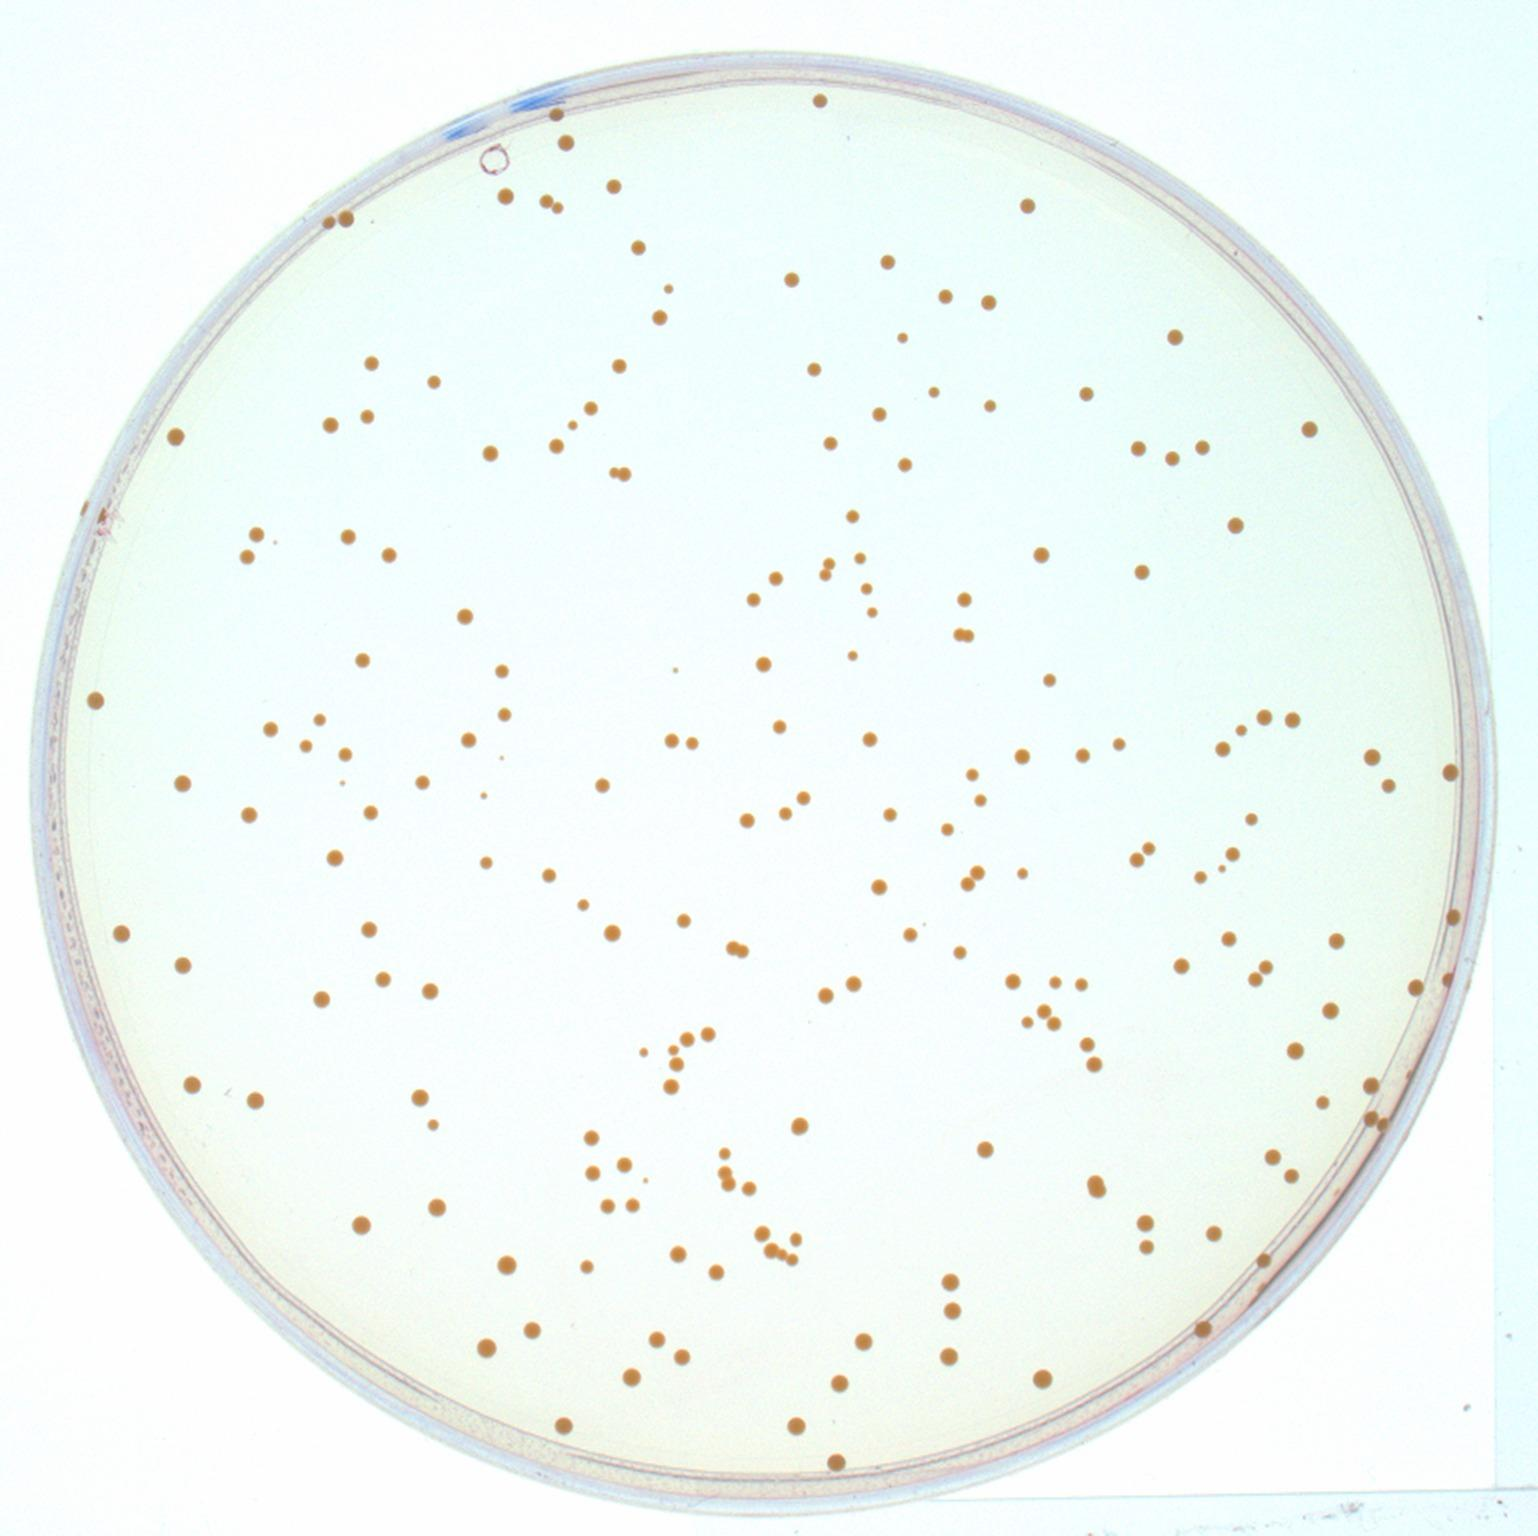colony: (167, 771, 204, 803), (179, 1072, 207, 1097), (1029, 1366, 1054, 1393), (349, 1211, 374, 1238), (424, 1196, 450, 1221), (172, 952, 196, 979), (1254, 705, 1278, 730), (823, 1453, 849, 1477), (666, 1242, 689, 1267), (455, 606, 480, 630), (321, 847, 348, 869), (853, 1331, 877, 1355), (621, 1366, 644, 1390), (787, 1114, 811, 1138), (163, 425, 187, 449), (495, 1252, 518, 1277), (260, 717, 281, 744), (1262, 1145, 1285, 1169), (1190, 1319, 1214, 1342), (940, 1269, 962, 1293), (784, 1415, 808, 1438), (550, 1415, 574, 1438), (671, 1346, 694, 1370), (1169, 955, 1193, 978), (736, 809, 758, 833), (242, 1089, 266, 1111), (941, 1298, 962, 1324), (829, 1371, 850, 1397), (108, 923, 134, 944), (1361, 745, 1383, 768), (1285, 1039, 1307, 1062), (474, 1336, 497, 1359), (705, 1259, 727, 1281), (457, 730, 480, 753), (409, 1086, 432, 1108), (1326, 930, 1347, 954), (939, 1345, 960, 1369), (599, 921, 623, 942), (353, 648, 374, 672), (373, 968, 394, 992), (359, 917, 379, 942), (310, 989, 335, 1009), (1165, 326, 1186, 349), (1441, 762, 1462, 785), (1318, 1000, 1341, 1021), (1134, 1212, 1155, 1235), (974, 1139, 996, 1160), (522, 1318, 543, 1340), (646, 1328, 667, 1350), (580, 1127, 602, 1148), (739, 1179, 761, 1200), (1244, 969, 1265, 992), (1255, 958, 1278, 979), (1124, 850, 1147, 871), (494, 703, 515, 726), (319, 415, 341, 437), (84, 689, 106, 712), (957, 873, 978, 896), (750, 1224, 774, 1243), (1219, 927, 1238, 951), (1017, 196, 1038, 217), (1013, 745, 1034, 767), (1404, 978, 1425, 999), (581, 1163, 602, 1184), (597, 1196, 618, 1217), (661, 730, 682, 751), (491, 661, 512, 682), (628, 236, 649, 257), (495, 187, 516, 208), (967, 862, 988, 883), (1129, 440, 1151, 460), (1107, 736, 1130, 755), (1283, 709, 1303, 731), (1223, 844, 1245, 864), (813, 985, 836, 1004), (592, 775, 615, 795), (333, 744, 356, 764), (650, 307, 670, 329), (1040, 671, 1061, 691), (1299, 419, 1320, 439), (961, 765, 982, 785), (1380, 776, 1400, 798), (1361, 1075, 1382, 1094), (1362, 1110, 1383, 1129), (1083, 1055, 1105, 1075), (1043, 1014, 1064, 1034), (1002, 972, 1023, 992), (1243, 809, 1264, 828), (870, 878, 889, 899), (858, 730, 879, 750), (539, 866, 560, 886), (419, 980, 439, 1001), (546, 436, 566, 457), (336, 208, 356, 229), (754, 654, 774, 675), (1074, 745, 1092, 768), (615, 1153, 633, 1176), (623, 1194, 642, 1217), (238, 806, 260, 824), (1033, 546, 1053, 565), (1213, 738, 1233, 758), (1138, 838, 1158, 858), (950, 942, 970, 962), (843, 973, 863, 993), (673, 910, 692, 930), (611, 356, 630, 376), (581, 399, 601, 419), (379, 544, 398, 564), (878, 252, 896, 273), (1226, 516, 1247, 535), (1311, 1093, 1333, 1111), (1203, 1225, 1224, 1243), (1254, 1250, 1275, 1269), (659, 1076, 680, 1094), (699, 1024, 718, 1045), (1076, 1035, 1098, 1054), (937, 287, 955, 307), (981, 293, 999, 312), (955, 588, 975, 606), (1444, 907, 1462, 927), (1441, 971, 1459, 990), (1282, 1169, 1302, 1187), (1137, 1236, 1155, 1256), (667, 1054, 685, 1073), (677, 1030, 697, 1048), (1047, 973, 1065, 993), (1189, 868, 1209, 886), (682, 733, 701, 753), (574, 893, 592, 913), (360, 803, 380, 821), (481, 443, 500, 463), (336, 527, 356, 546), (357, 407, 376, 426), (362, 353, 381, 371), (605, 177, 623, 197), (557, 132, 576, 152), (546, 105, 566, 124), (719, 1175, 737, 1194), (536, 191, 554, 211), (1078, 384, 1095, 405), (806, 360, 823, 381), (795, 788, 812, 809), (1088, 1184, 1109, 1201), (722, 937, 739, 958), (616, 464, 633, 485), (1083, 1173, 1106, 1189), (811, 91, 829, 110), (744, 591, 763, 609), (1164, 449, 1182, 467), (1133, 563, 1151, 581), (715, 1145, 733, 1163), (787, 1231, 805, 1249), (1072, 976, 1091, 994), (770, 717, 788, 736), (477, 855, 495, 873), (547, 200, 566, 218), (846, 508, 863, 527), (1193, 439, 1213, 456), (939, 820, 955, 840), (782, 1250, 802, 1267), (1034, 1003, 1054, 1020), (901, 926, 920, 942), (881, 805, 901, 821), (414, 772, 431, 792), (318, 214, 338, 231), (735, 941, 751, 961), (822, 435, 840, 452), (767, 571, 785, 588), (580, 1257, 597, 1276), (761, 1242, 780, 1259), (773, 1245, 789, 1263), (1017, 1014, 1034, 1032), (295, 736, 314, 753), (246, 526, 266, 542), (924, 384, 941, 401), (312, 710, 329, 727), (425, 374, 442, 391), (784, 271, 799, 290), (871, 407, 889, 422), (822, 554, 837, 572), (238, 547, 253, 565), (982, 397, 998, 414), (898, 457, 913, 474), (863, 605, 879, 620), (844, 648, 861, 664), (1015, 866, 1030, 883), (1231, 722, 1247, 738), (1375, 1115, 1390, 1132), (777, 806, 792, 823), (425, 1114, 440, 1131), (962, 627, 977, 646), (951, 625, 965, 643), (853, 550, 868, 565), (716, 1165, 733, 1179), (635, 1045, 650, 1059), (661, 281, 675, 297), (895, 332, 912, 345), (972, 792, 985, 809), (818, 568, 832, 582), (667, 1042, 681, 1056), (1216, 862, 1230, 876), (860, 581, 872, 596), (606, 464, 619, 480), (335, 776, 349, 789), (494, 753, 507, 765), (477, 791, 488, 802), (670, 664, 681, 675), (567, 419, 578, 429), (640, 1176, 649, 1184)
